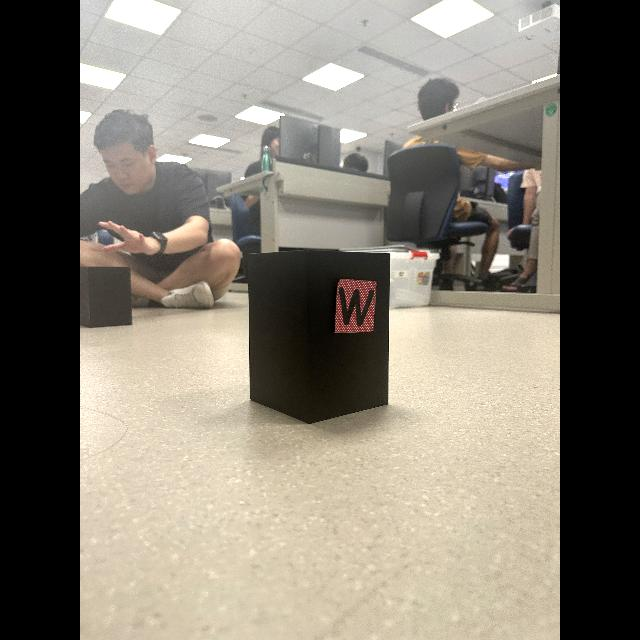W: (338, 287, 373, 326)
